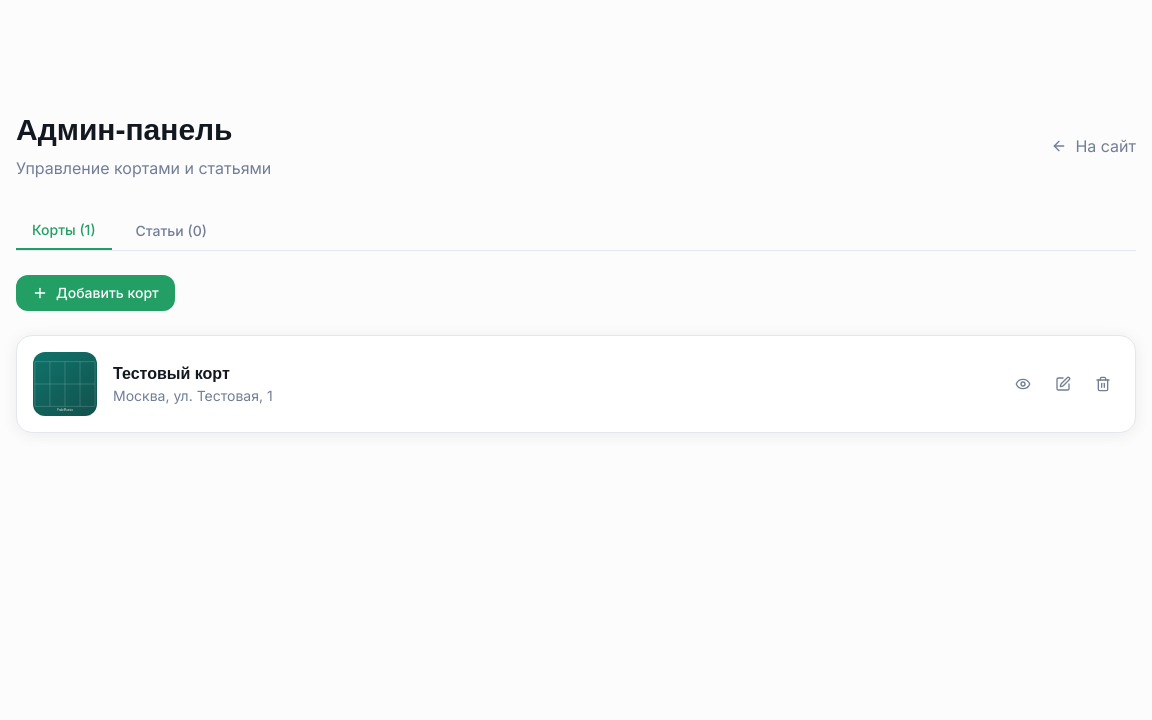
Test: AdminClient — формы добавления/редактирования › закрывает форму по кнопке «Отмена»
Click the button "Добавить корт" at (95, 293), box [16, 275, 175, 311]
(page scrolled)
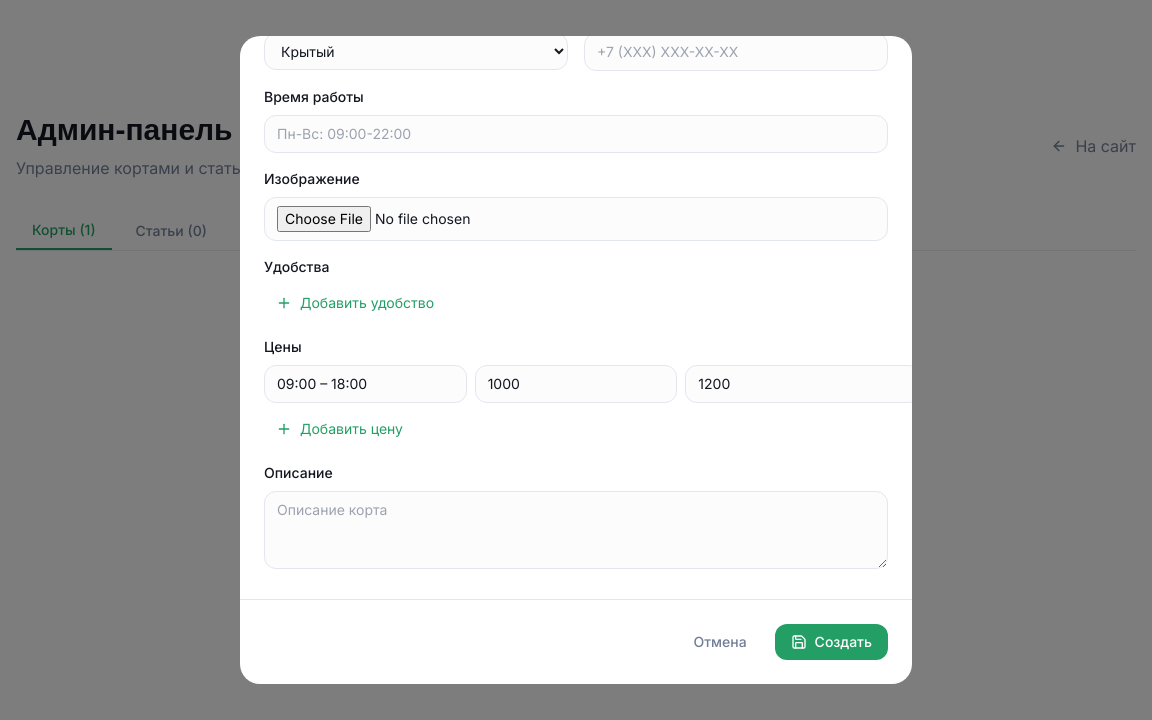
Click the button "Отмена" at (720, 642), box [677, 624, 763, 660]
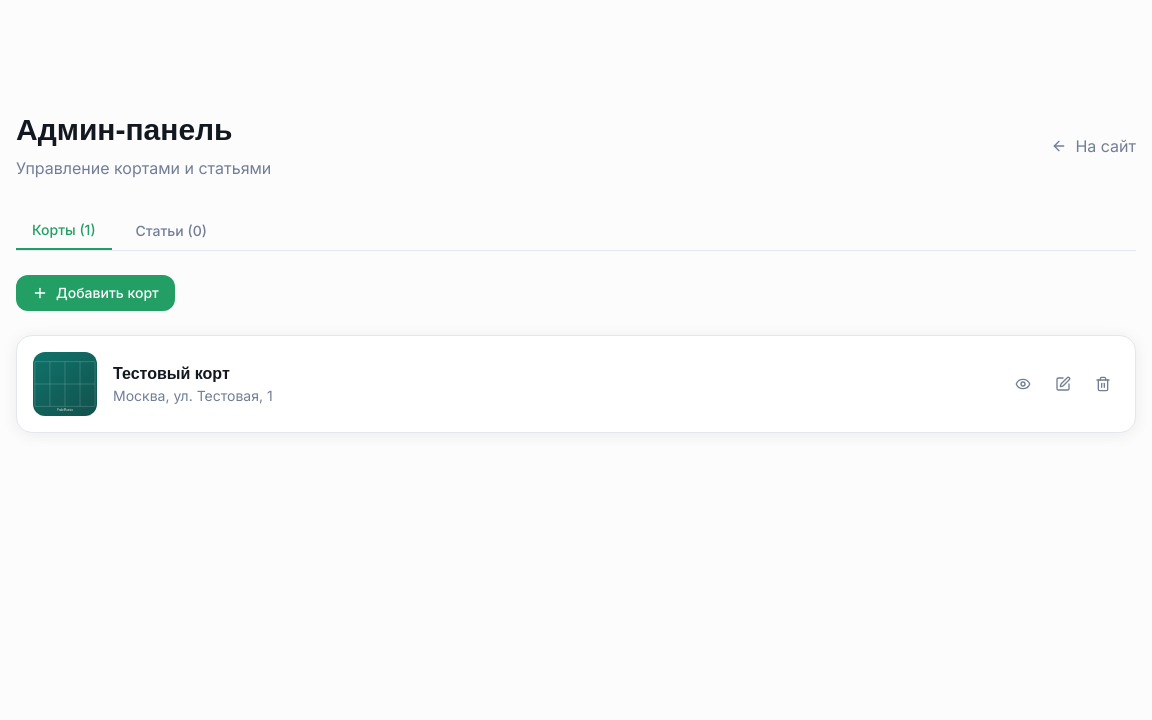
Check: the button "Добавить корт" is shown, box [16, 275, 175, 311]
